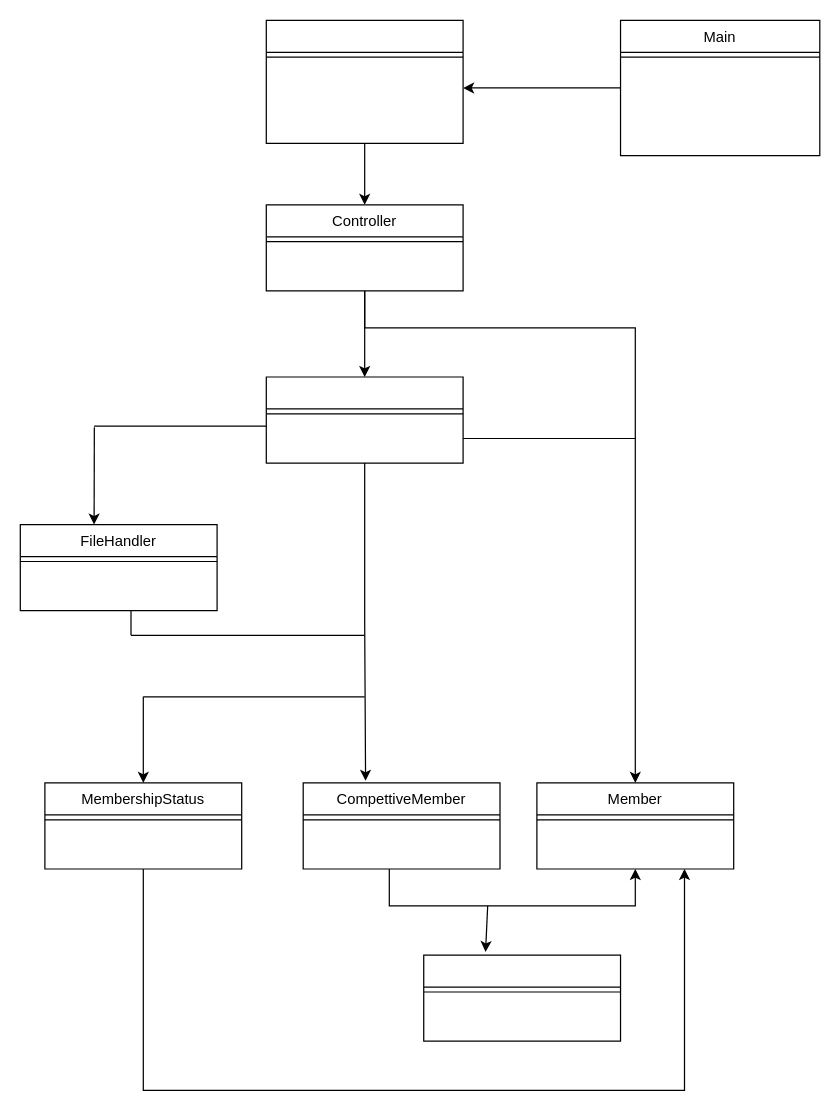
Image size: 840x1111. Some labels were removed from this diagram. The box of each missing label's shape, as (x1, y1, x2, y2) in pixels:
Database: (265, 376, 463, 463)
SwimmingDIscipline: (423, 954, 621, 1041)
Userinteface: (265, 19, 463, 143)
